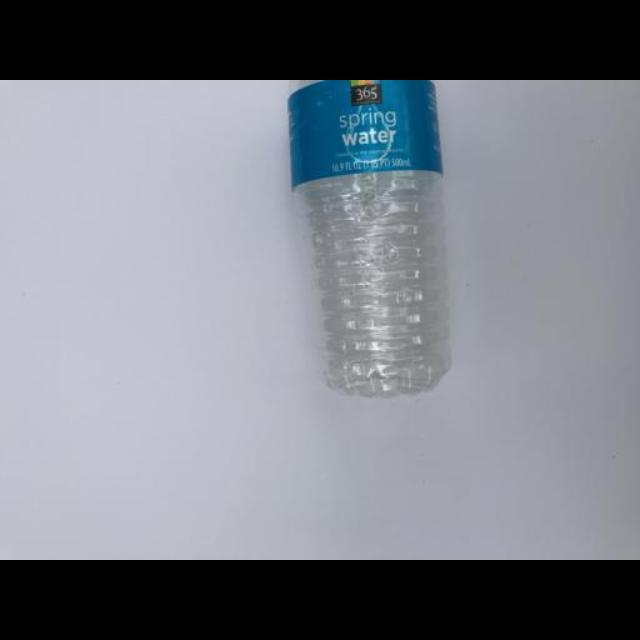garrafa plástica: (285, 80, 455, 398)
